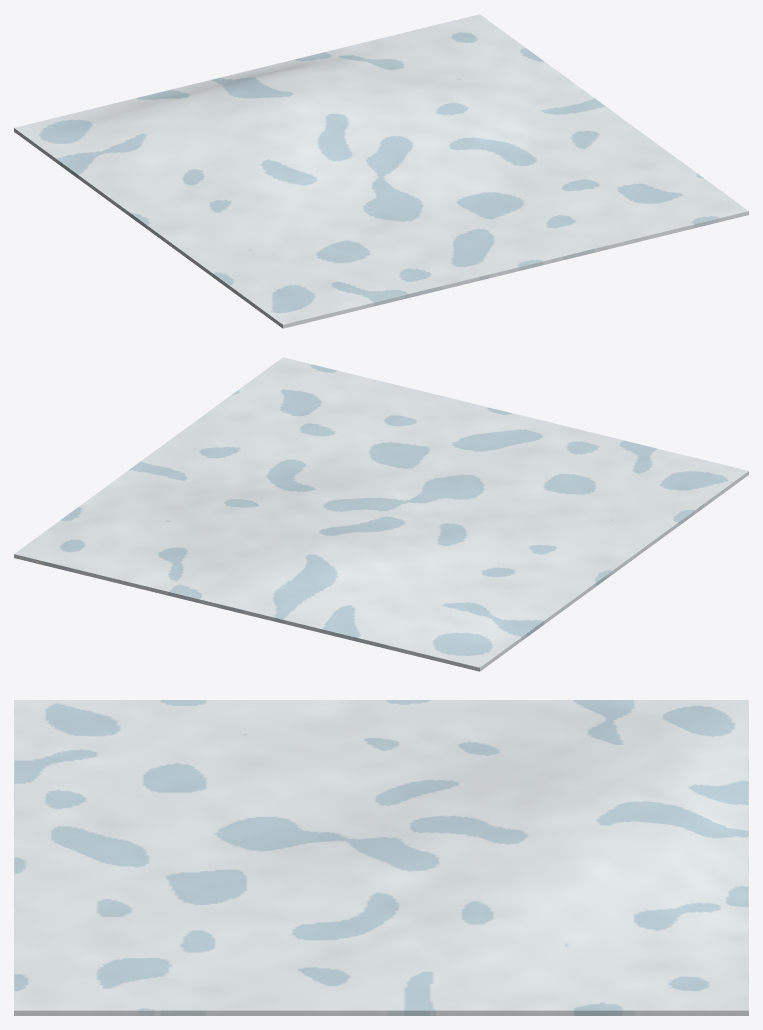
The model's file is Snow_Flat_06.obj.
The picture shows the model from 3 angles, top to bottom: view 1: azimuth 30°, elevation 25°; view 2: azimuth 150°, elevation 25°; view 3: azimuth 270°, elevation 25°; orthographic projection. The views are drawn at different scales.
Size of the model in its own units: 10 by 0.4706 by 10.
1 material, 1 textured.
